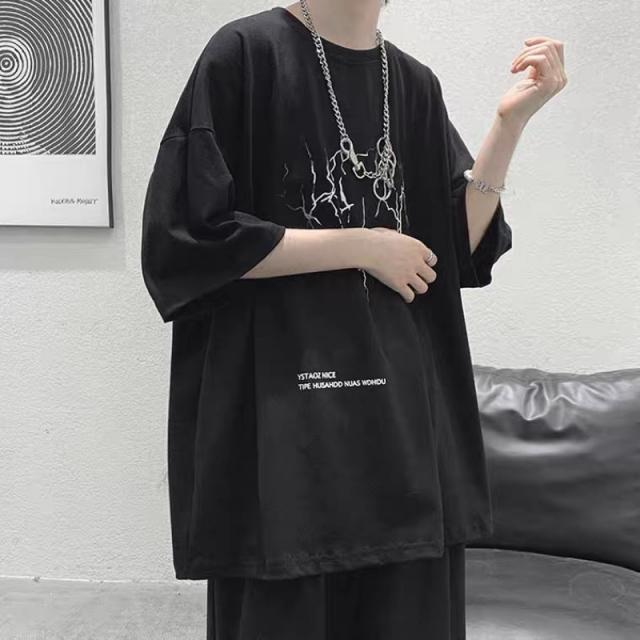Shirt: (135, 3, 518, 580)
